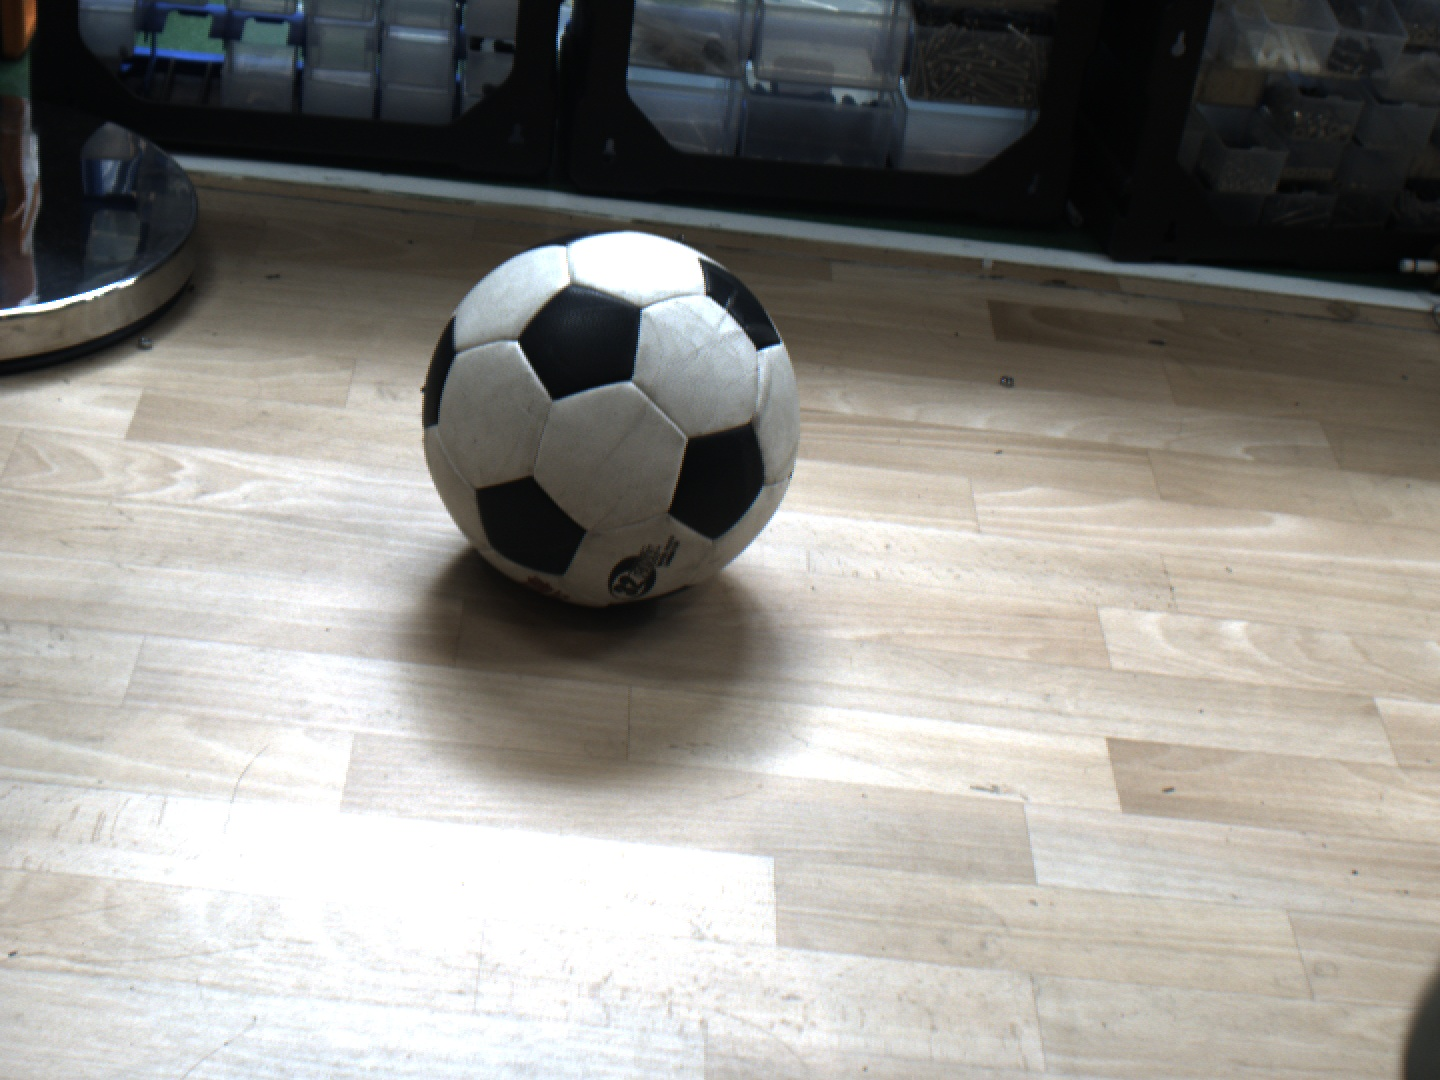ball: (376, 189, 825, 659)
